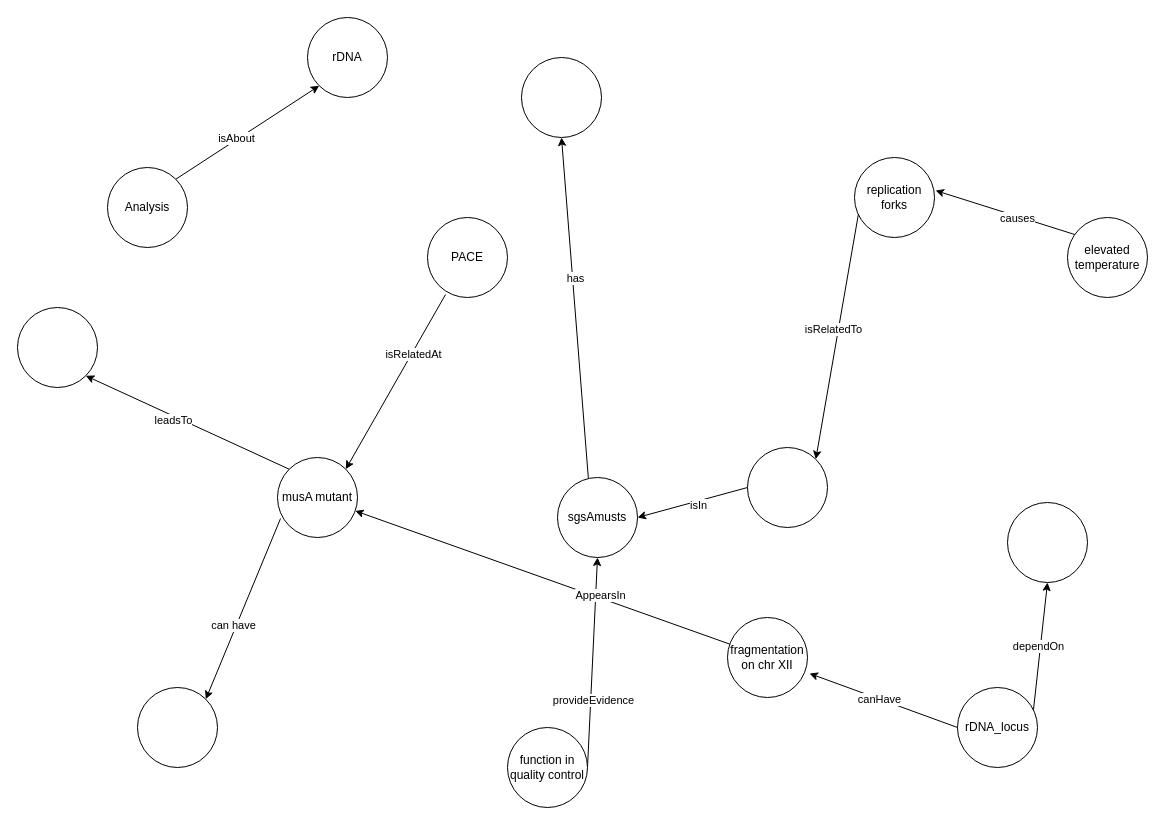
This 1173x825 diagram has some shape labels left out. Each missing label, with the centre of its shape:
"expension of rDNA locus" goes at pixel 57 347.
"novel linear structure" goes at pixel 561 97.
"permissive temperature" goes at pixel 177 727.
"Rad" goes at pixel 1047 542.
"rfb" goes at pixel 787 487.
